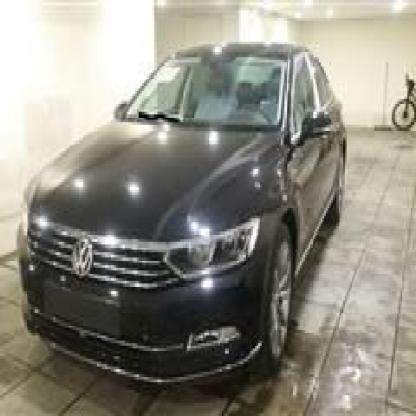Car: (17, 47, 359, 398)
